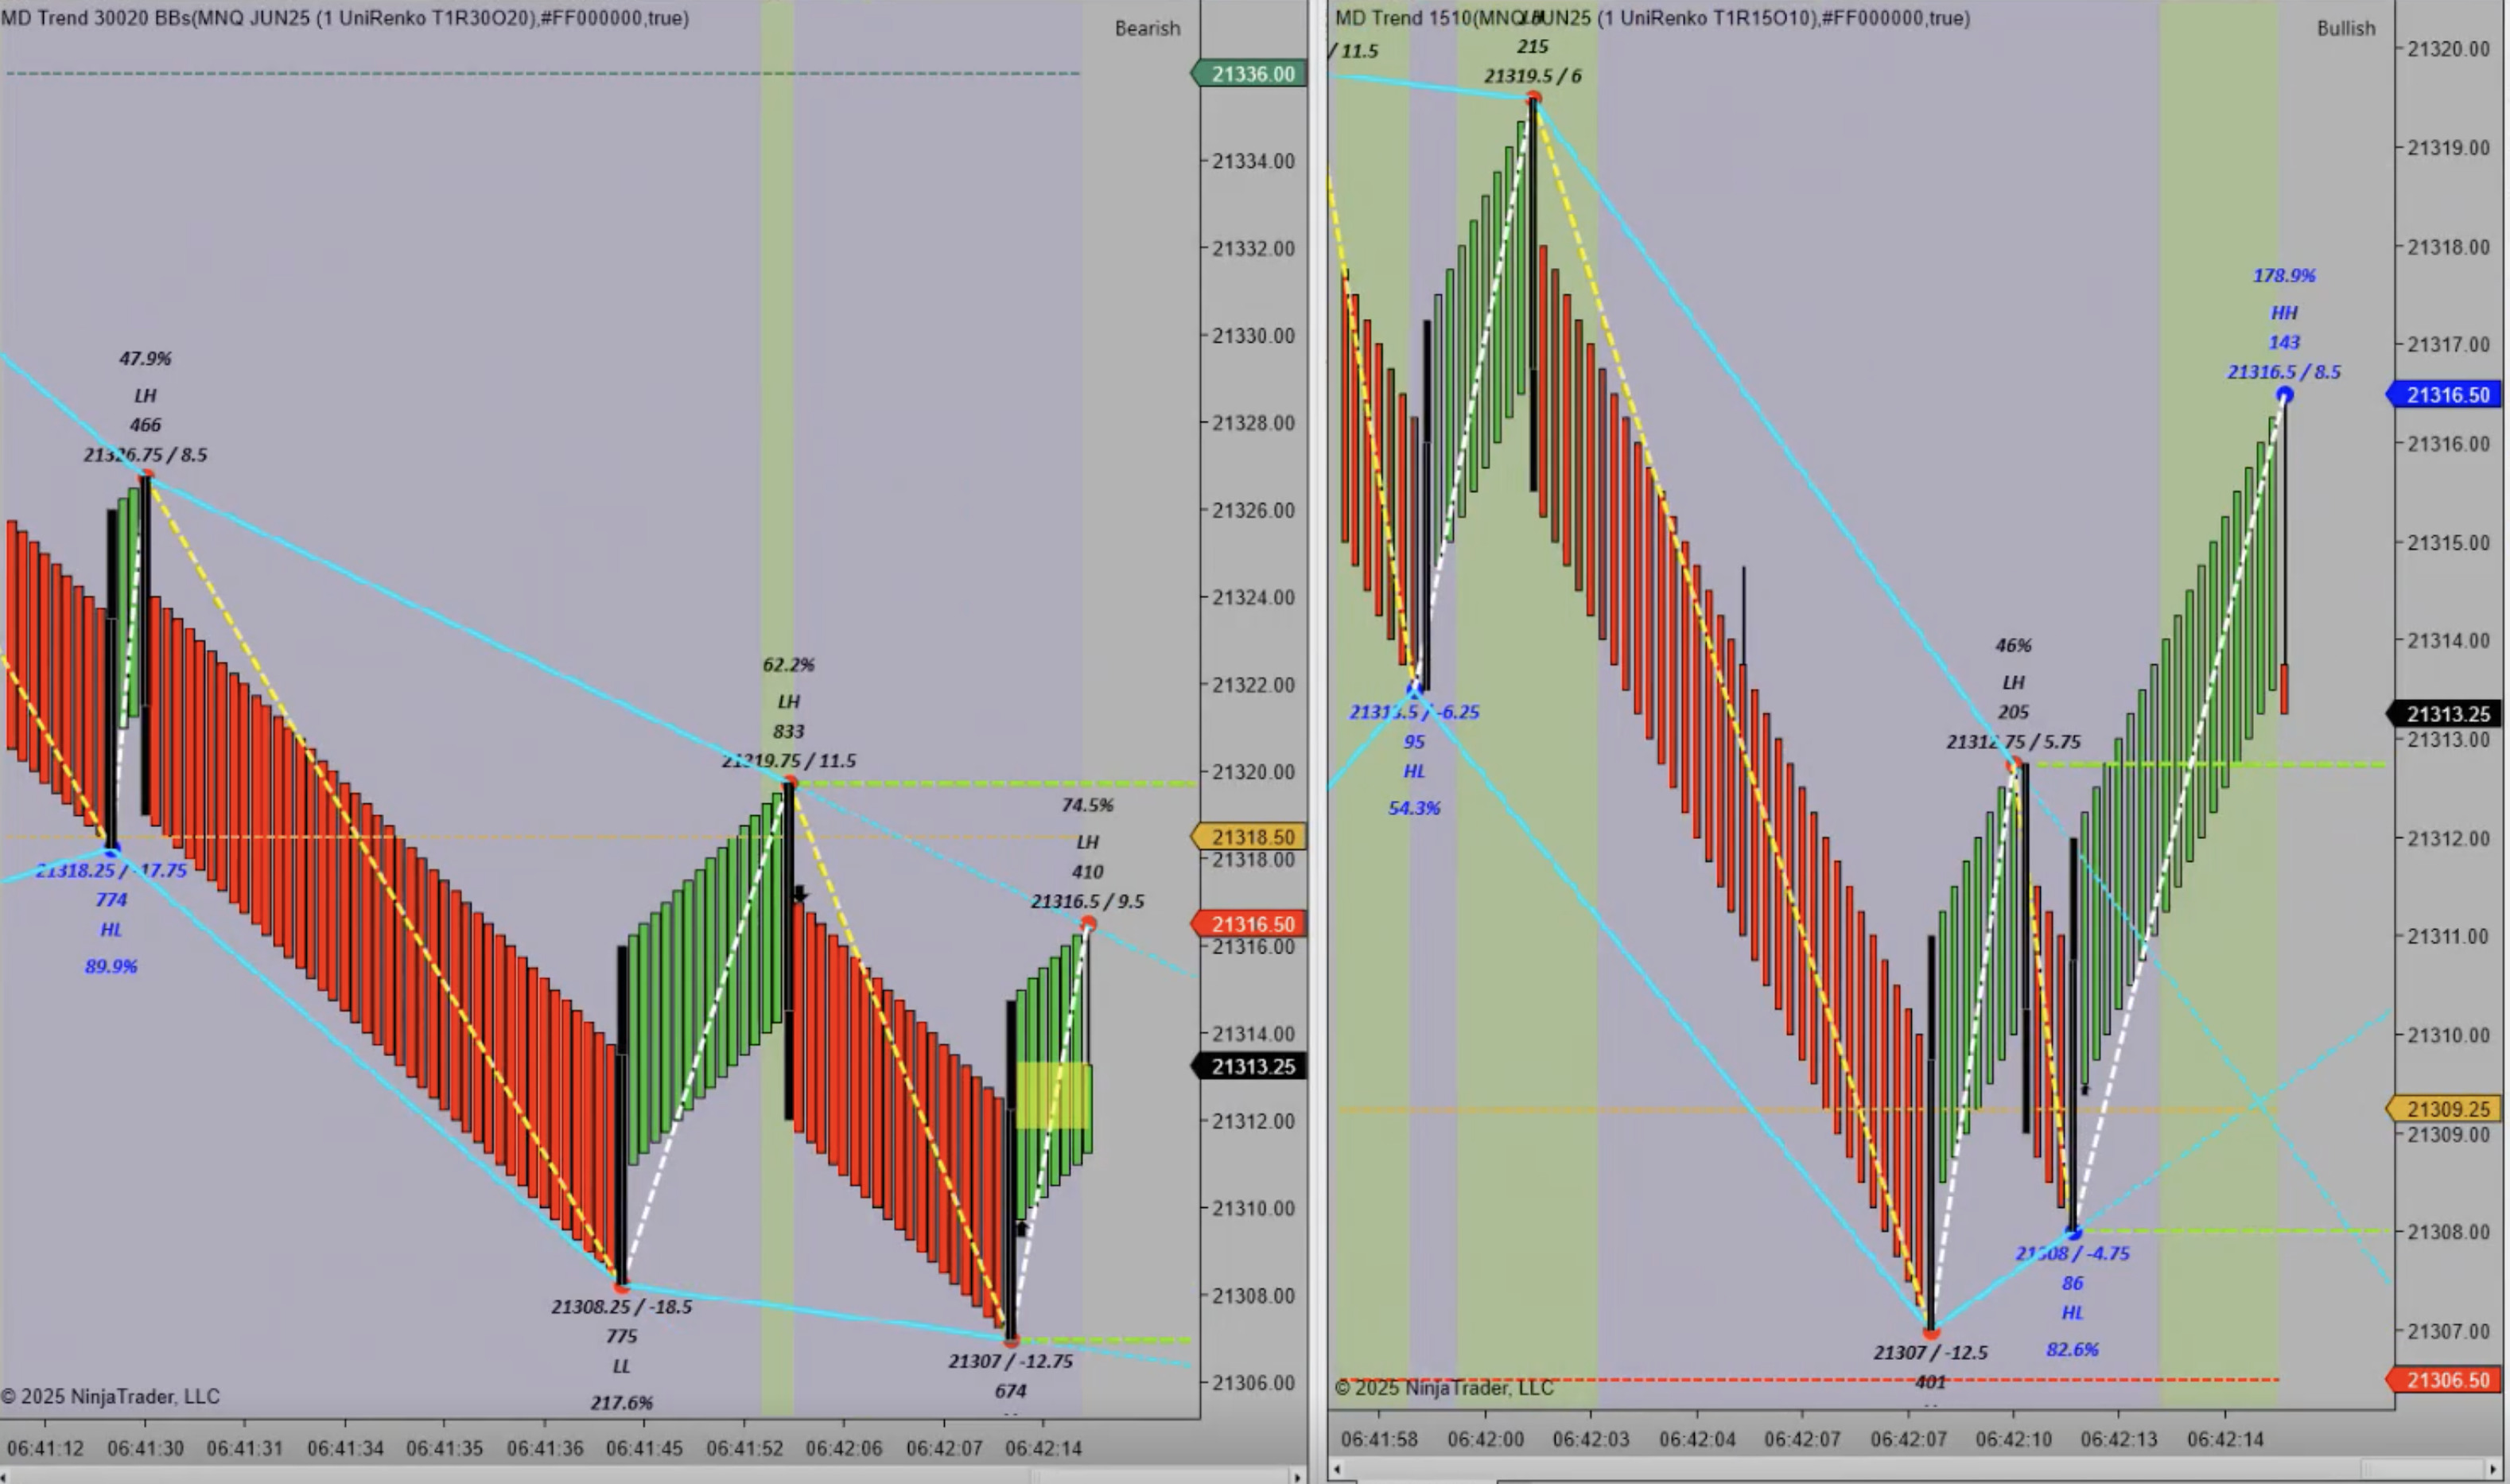candle: (2017, 760, 2038, 1143), (615, 945, 636, 1286), (1422, 320, 1441, 691), (1526, 97, 1544, 500), (1002, 993, 1021, 1348), (781, 781, 798, 1131), (2067, 837, 2083, 1226), (1924, 931, 1938, 1327), (104, 505, 118, 853), (141, 470, 152, 822)
